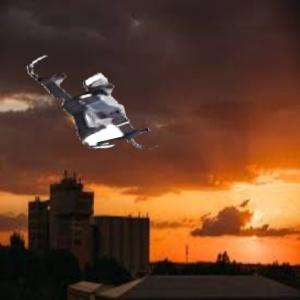drone: (28, 42, 153, 167)
